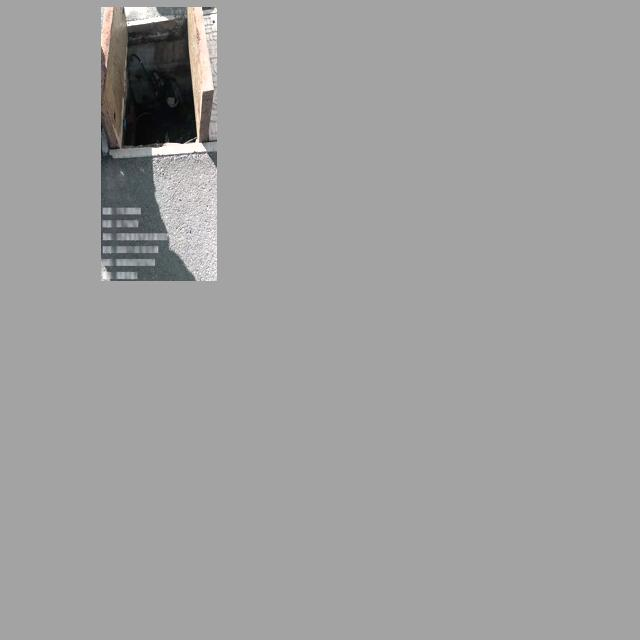uncovered: (102, 7, 216, 157)
